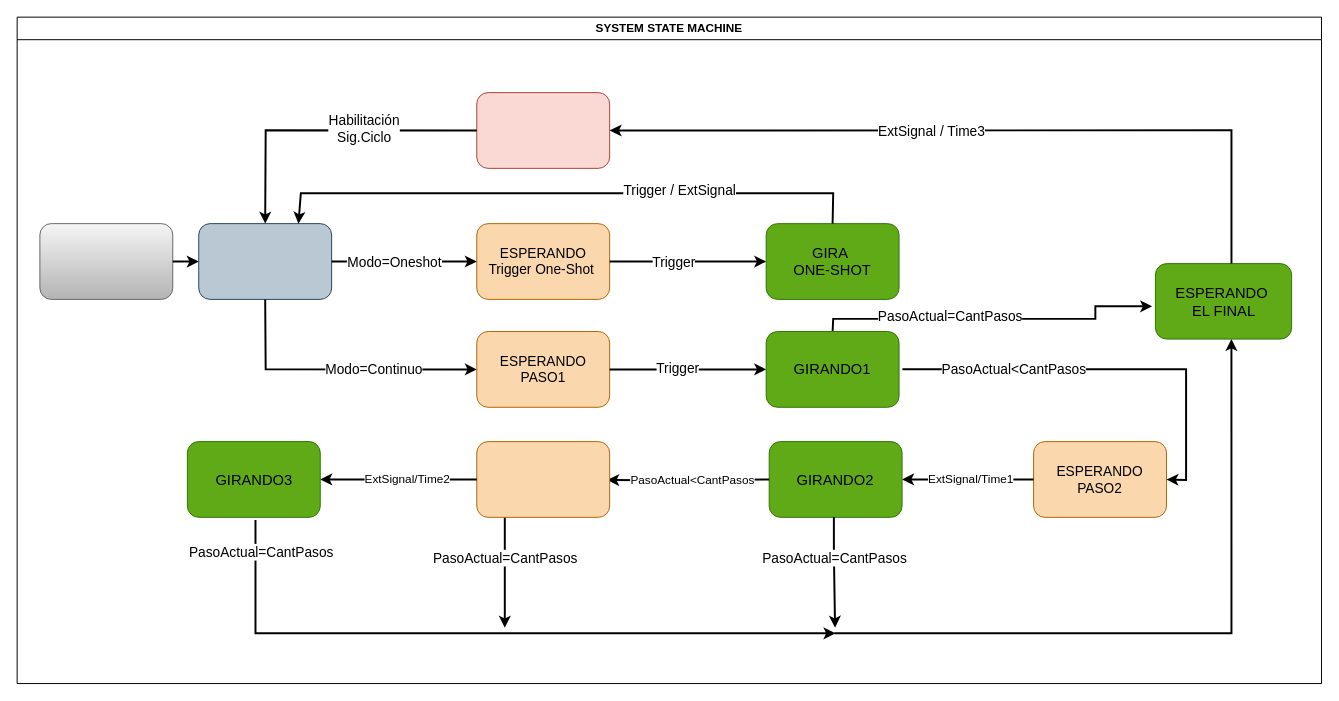
Some shapes in this 1339 by 701 pixel diagram are drawn without their labels. The box of each missing label's shape, as (x1, y1, x2, y2) in pixels:
CARGANDO PARÁMETROS: (198, 223, 332, 299)
ESPERANDO PASO3: (476, 441, 610, 517)
FINALIZANDO CICLO: (476, 92, 610, 168)
INICIO: (39, 223, 173, 299)
